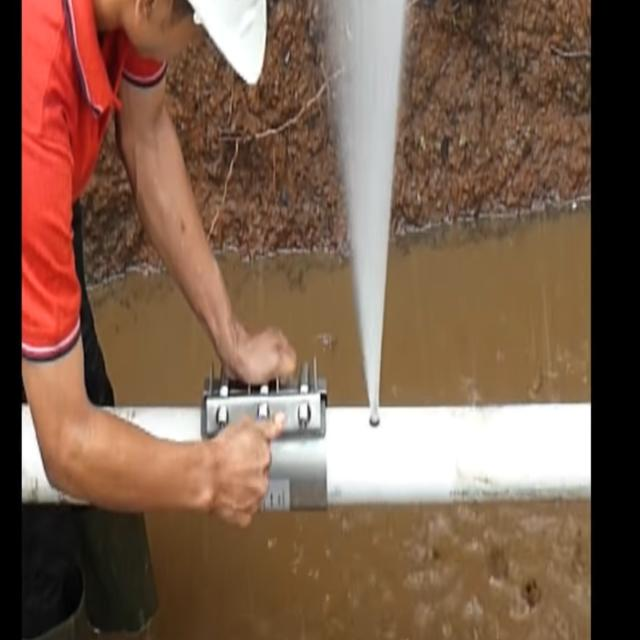leak: (310, 0, 407, 425)
